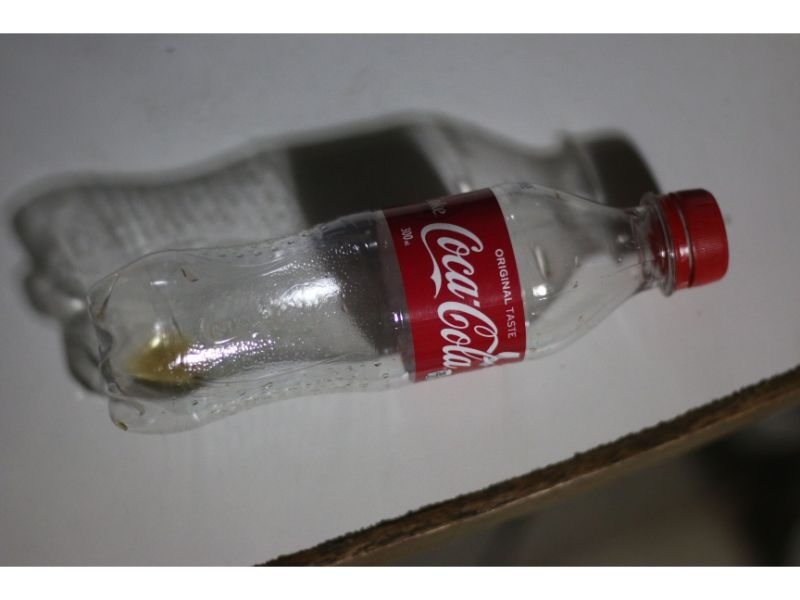PET #1: (81, 177, 734, 438)
